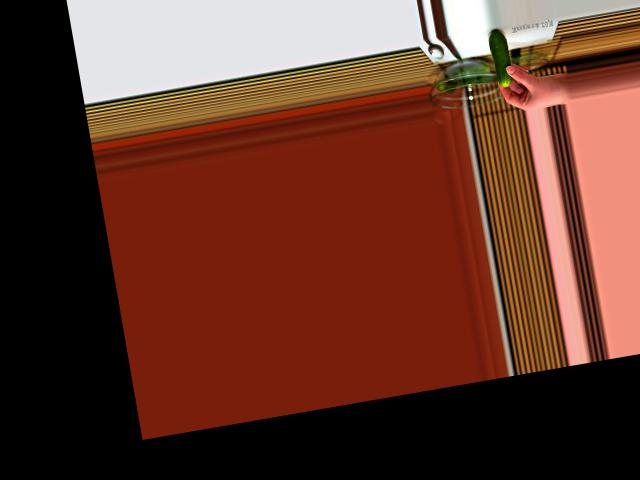cucumber: (487, 28, 514, 88)
